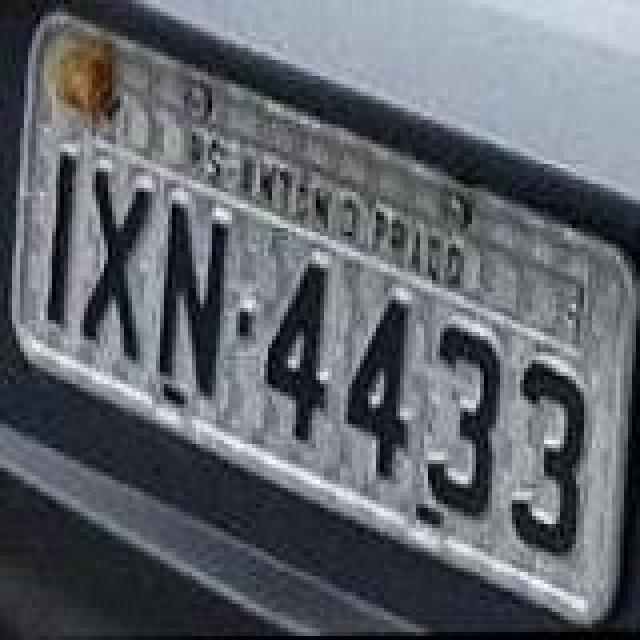1: (44, 150, 84, 322)
3: (504, 356, 584, 560), (424, 320, 504, 516)
4: (260, 260, 332, 444), (344, 296, 416, 480)
N: (156, 196, 228, 400)
X: (84, 164, 156, 360)
